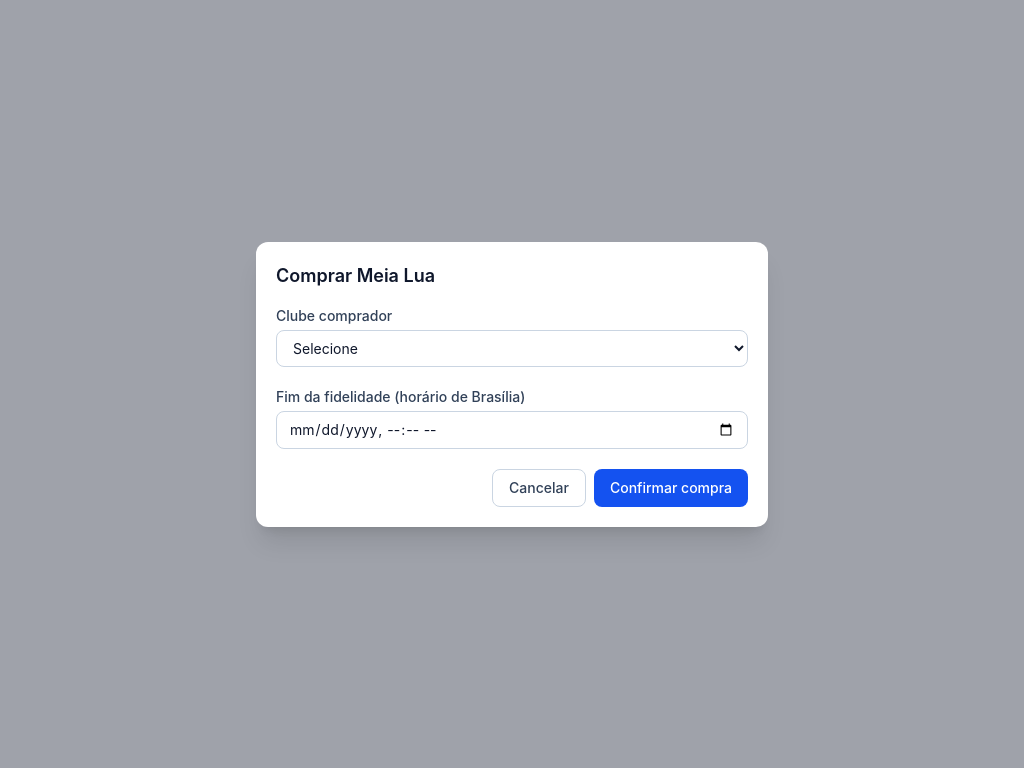
Test: PurchaseDialog › shows the API message when the purchase is refused
Select "AGU · Águias FC" in the dropdown labelled "Clube comprador": (512, 348) [276,330,748,366]
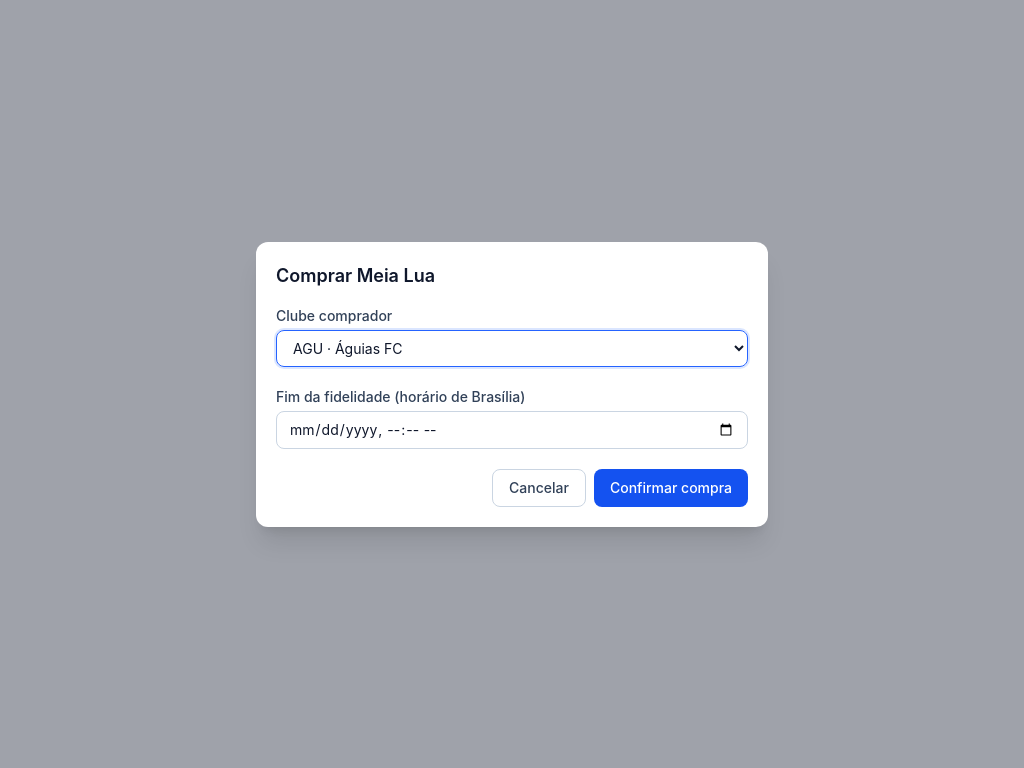
In the field labelled "Fim da fidelidade (horário de Brasília)": (512, 430) [276,410,748,448], type "2027-03-02T10:15"
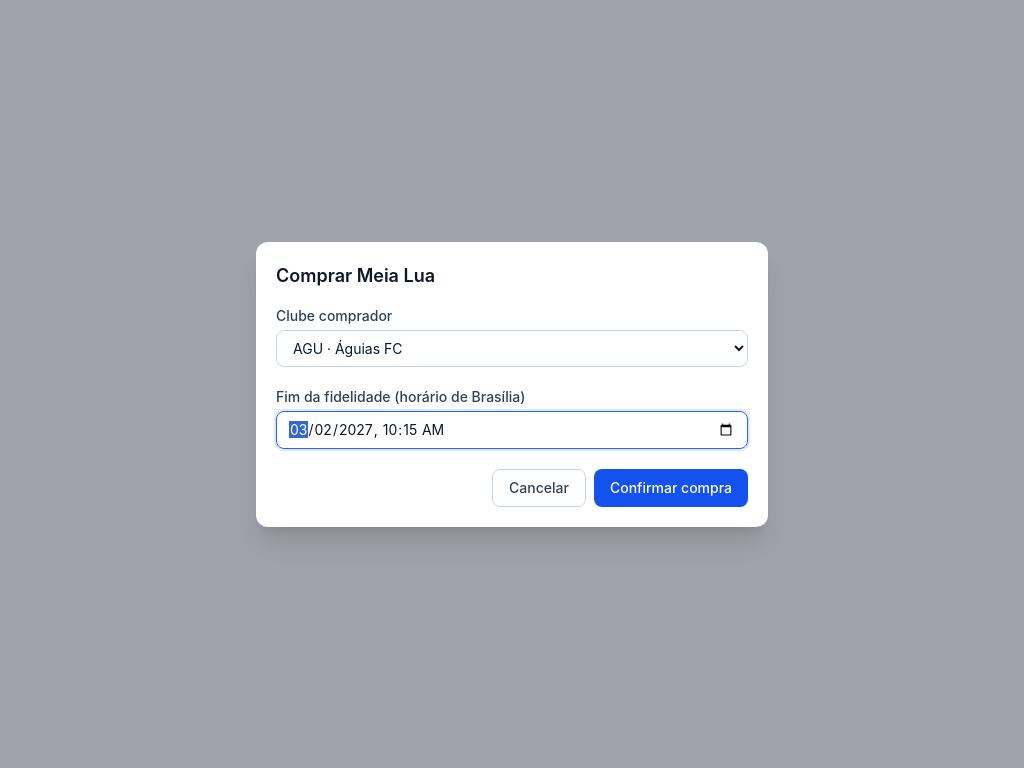
Click the button "Confirmar compra": (671, 488) [594,468,748,506]
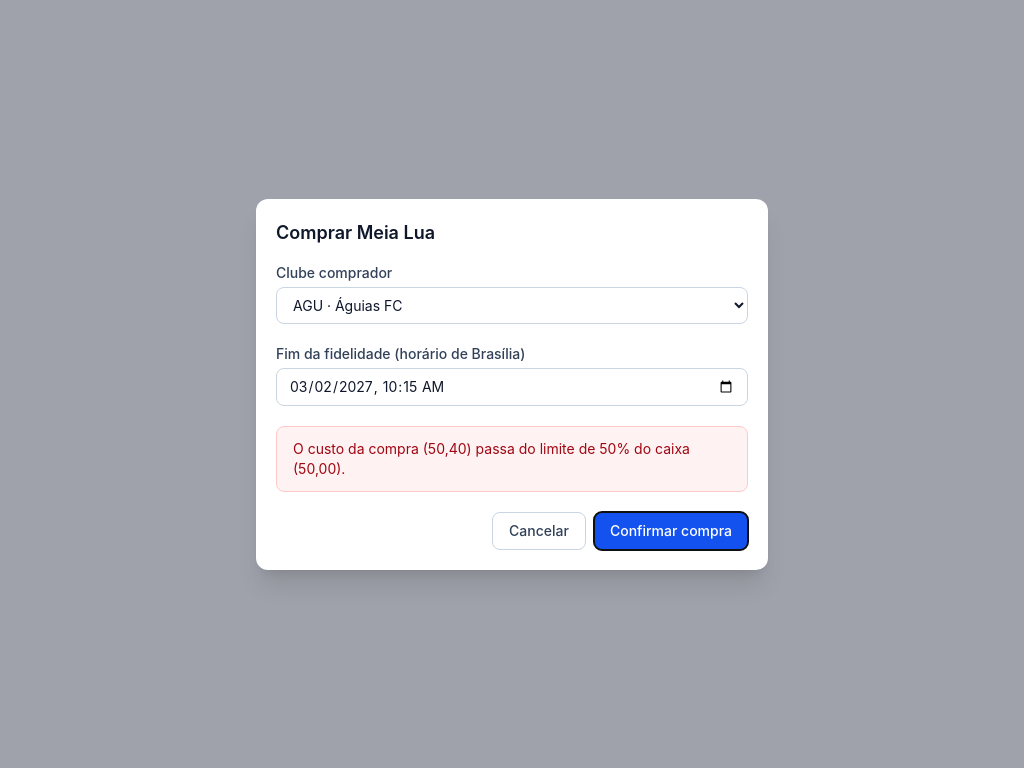
Now the message reads "O custo da compra (50,40) passa do limite de 50% do caixa (50,00).", box [293,440,690,476]
